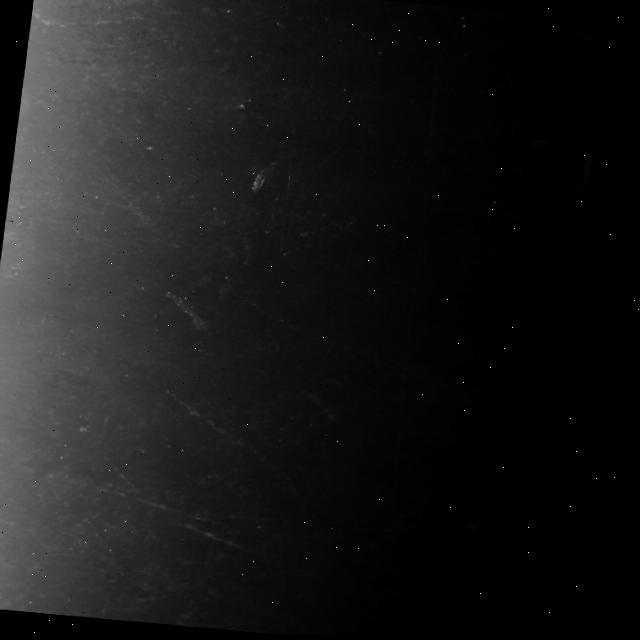beta: (212, 276, 469, 398), (125, 373, 323, 515), (21, 460, 295, 542), (397, 541, 606, 588), (419, 201, 636, 241), (92, 408, 157, 499), (28, 0, 150, 38), (484, 33, 530, 121), (499, 578, 567, 634), (173, 520, 250, 551)
